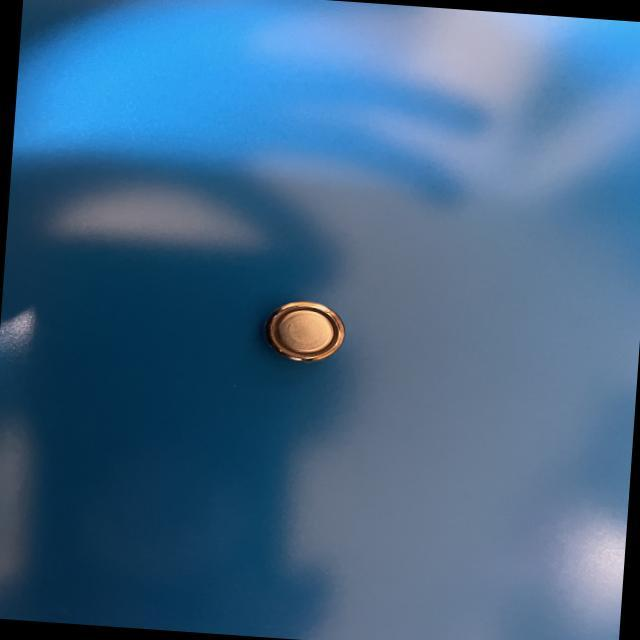COIN: (261, 296, 347, 366)
